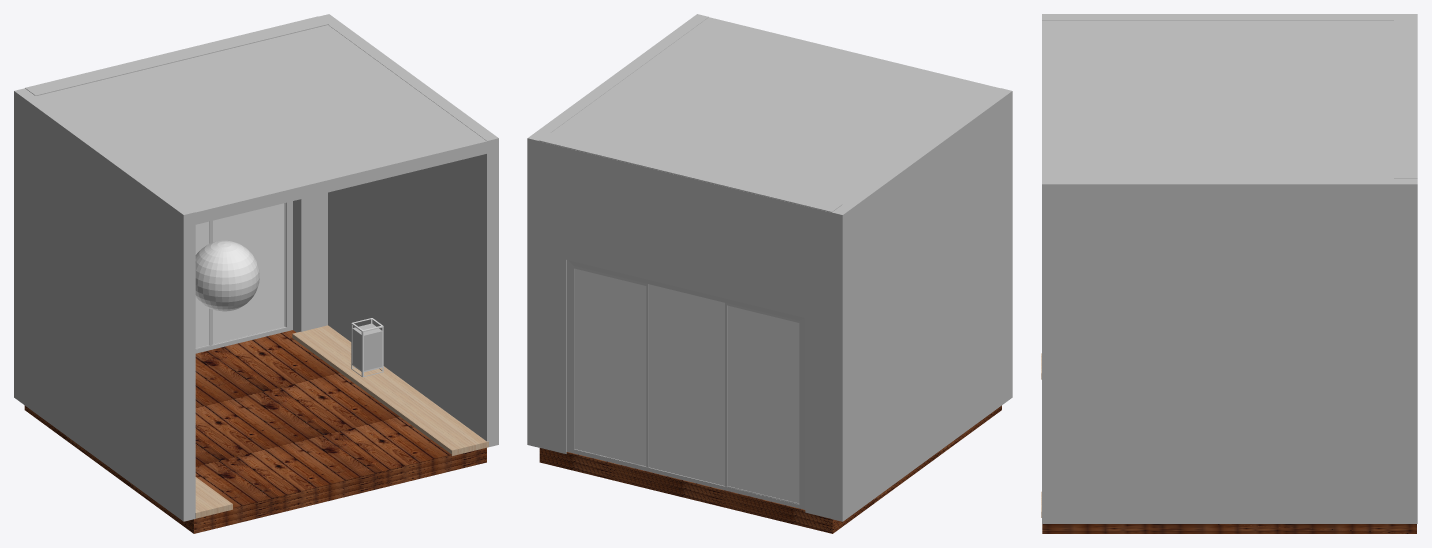
The model's file is Room version1.fbx.
The picture shows the model from 3 angles, left to right: view 1: azimuth 30°, elevation 25°; view 2: azimuth 150°, elevation 25°; view 3: azimuth 270°, elevation 25°; orthographic projection. The views are drawn at different scales.
Visible parts, largest first — view 1: lewa_sciana_Cube.002, prawa_sciana_Cube.002, prawa_sciana_Cube.001, pdloga_Cube.005, sciana_okno_Cube, szyba_Plane.001, Cube.003_Cube.009, Sphere, framuga_Cube.003, Cube.014_Cube.020, Cube.015_Cube.021, okna_drewno_Cube.004 (+1 smaller); view 2: lewa_sciana_Cube.002, prawa_sciana_Cube.002, sciana_okno_Cube, szyba_Plane.001, pdloga_Cube.005, prawa_sciana_Cube.001, framuga_Cube.003, okna_drewno_Cube.004; view 3: prawa_sciana_Cube.001, prawa_sciana_Cube.002, sciana_okno_Cube, pdloga_Cube.005, lewa_sciana_Cube.002.
Part boxes in pixels (box(x1,y1,x2,y2)): lewa_sciana_Cube.002: box(14, 88, 195, 521); prawa_sciana_Cube.002: box(37, 25, 486, 224); prawa_sciana_Cube.001: box(319, 14, 498, 446); pdloga_Cube.005: box(24, 330, 486, 533); sciana_okno_Cube: box(25, 16, 328, 332); szyba_Plane.001: box(195, 203, 284, 347); Cube.003_Cube.009: box(292, 325, 488, 455); Sphere: box(195, 240, 259, 311); framuga_Cube.003: box(195, 201, 292, 353); Cube.014_Cube.020: box(352, 323, 382, 370); Cube.015_Cube.021: box(195, 477, 232, 518); okna_drewno_Cube.004: box(195, 203, 285, 349); lewa_sciana_Cube.002: box(831, 88, 1012, 521); prawa_sciana_Cube.002: box(539, 17, 999, 224); sciana_okno_Cube: box(538, 132, 842, 518); szyba_Plane.001: box(574, 268, 799, 503); pdloga_Cube.005: box(539, 405, 1001, 533); prawa_sciana_Cube.001: box(527, 14, 708, 447); framuga_Cube.003: box(567, 260, 805, 509); okna_drewno_Cube.004: box(573, 266, 799, 504); prawa_sciana_Cube.001: box(1042, 178, 1417, 523); prawa_sciana_Cube.002: box(1042, 20, 1393, 177); sciana_okno_Cube: box(1394, 19, 1417, 178); pdloga_Cube.005: box(1042, 524, 1416, 533); lewa_sciana_Cube.002: box(1042, 14, 1417, 20).
Bounding box in the file's own units: 57.63 × 56.26 × 53.84.
